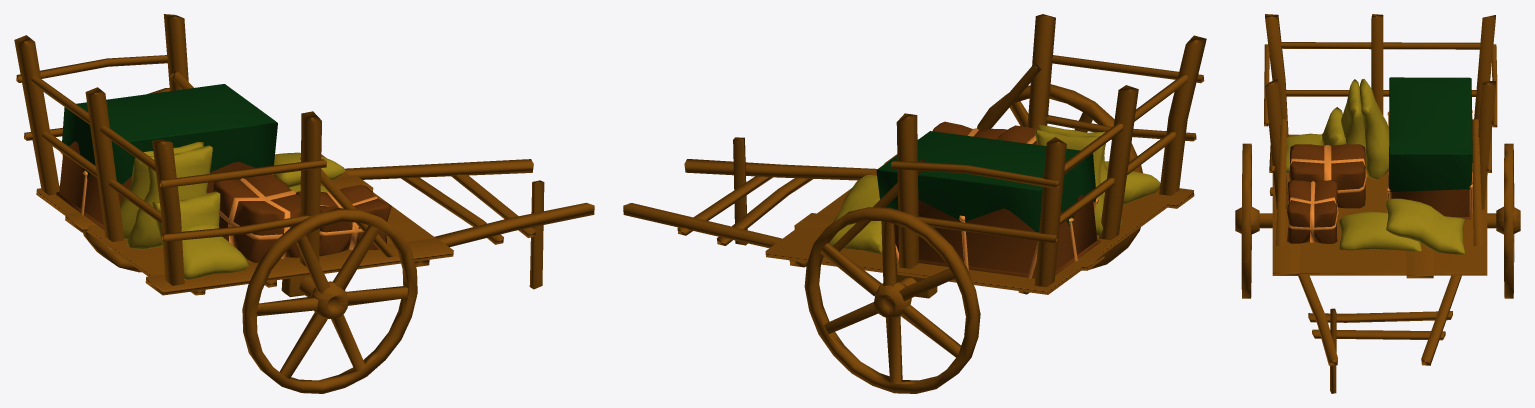
The model's file is Carro.fbx.
The picture shows the model from 3 angles, left to right: view 1: azimuth 30°, elevation 25°; view 2: azimuth 150°, elevation 25°; view 3: azimuth 270°, elevation 25°; orthographic projection. The views are drawn at different scales.
Visible parts, largest first — view 1: defaultobject; view 2: defaultobject; view 3: defaultobject.
Boxes of the visible parts, box(x1,y1,x2,y2) form: defaultobject: box(14, 14, 594, 393); defaultobject: box(623, 14, 1206, 393); defaultobject: box(1235, 14, 1520, 393).
Bounding box in the file's own units: 2945 × 1630 × 1937.
